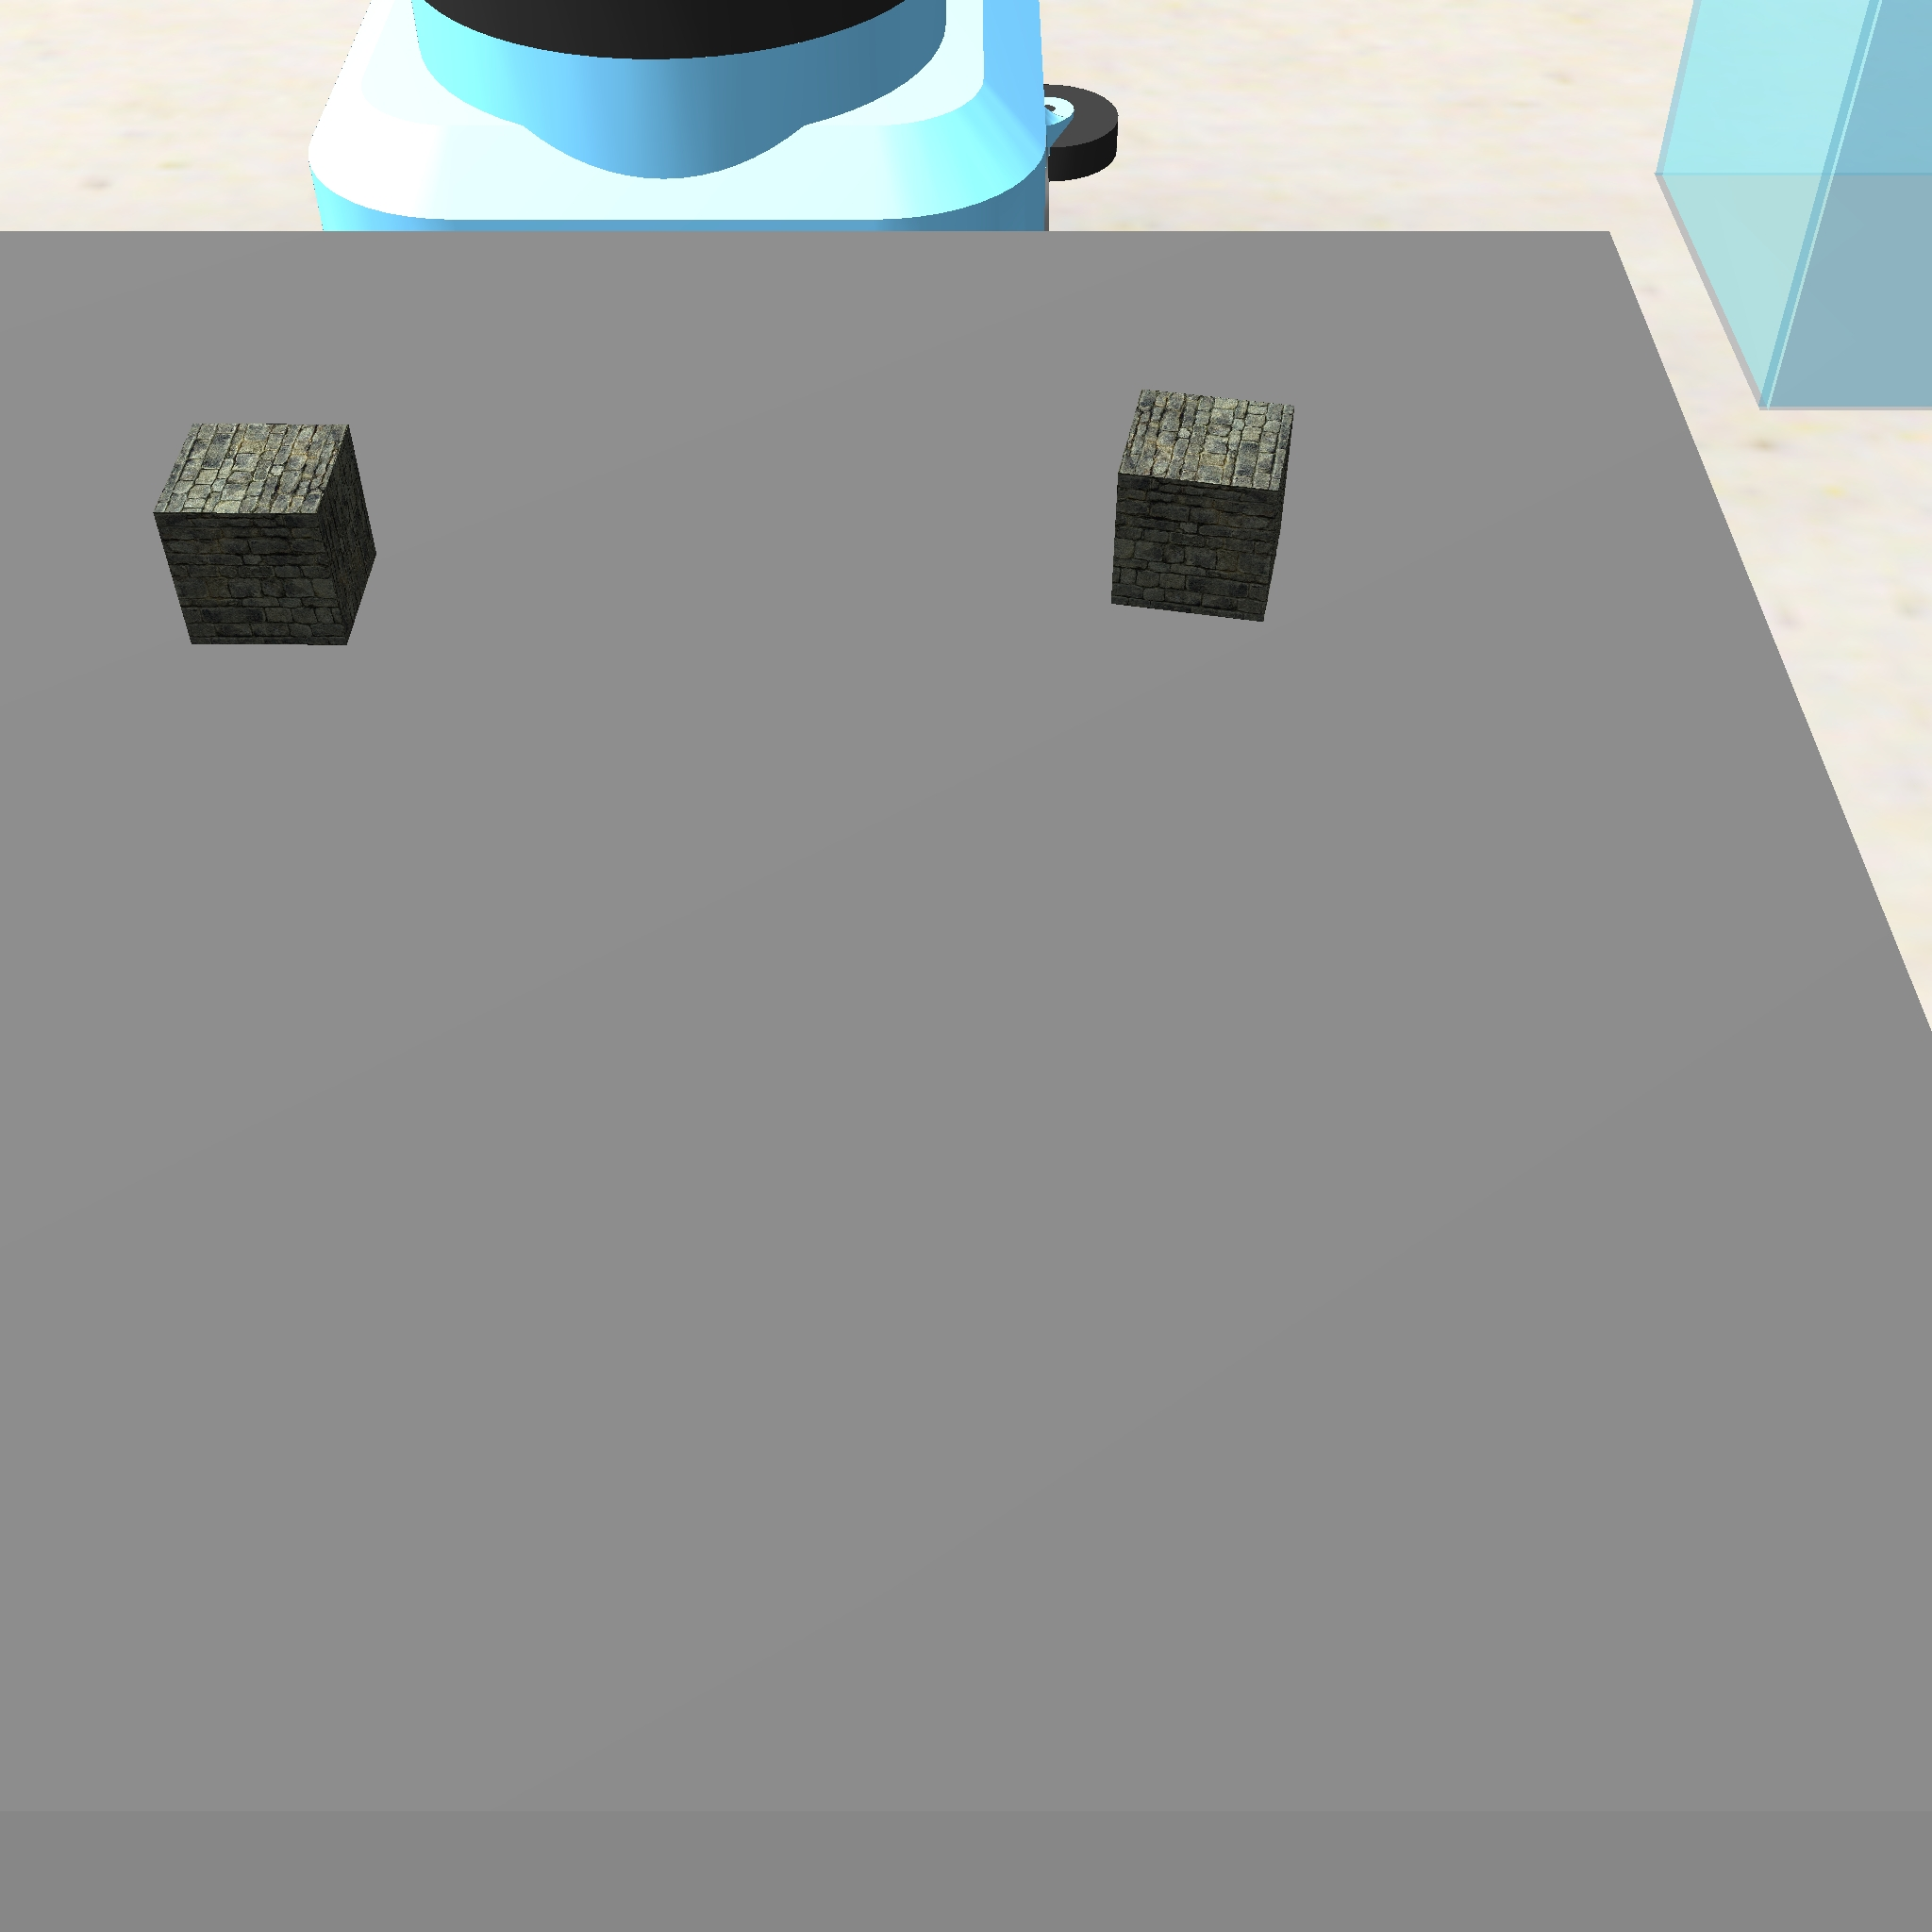cube: (145, 410, 387, 656), (1104, 380, 1300, 639)
